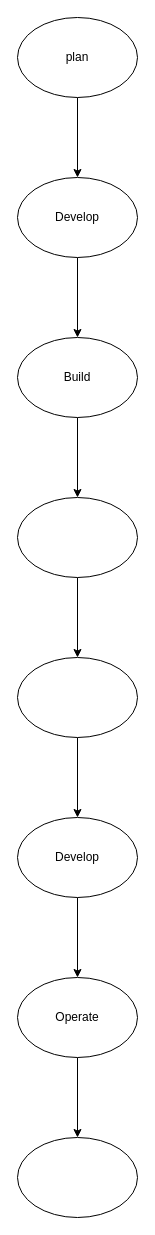
The diagram is 155 pixels wide and 1235 high, and some of its shapes have lost their labels. Each missing label, with the box of its shape:
Release: (16, 656, 138, 738)
Test: (16, 496, 138, 578)
